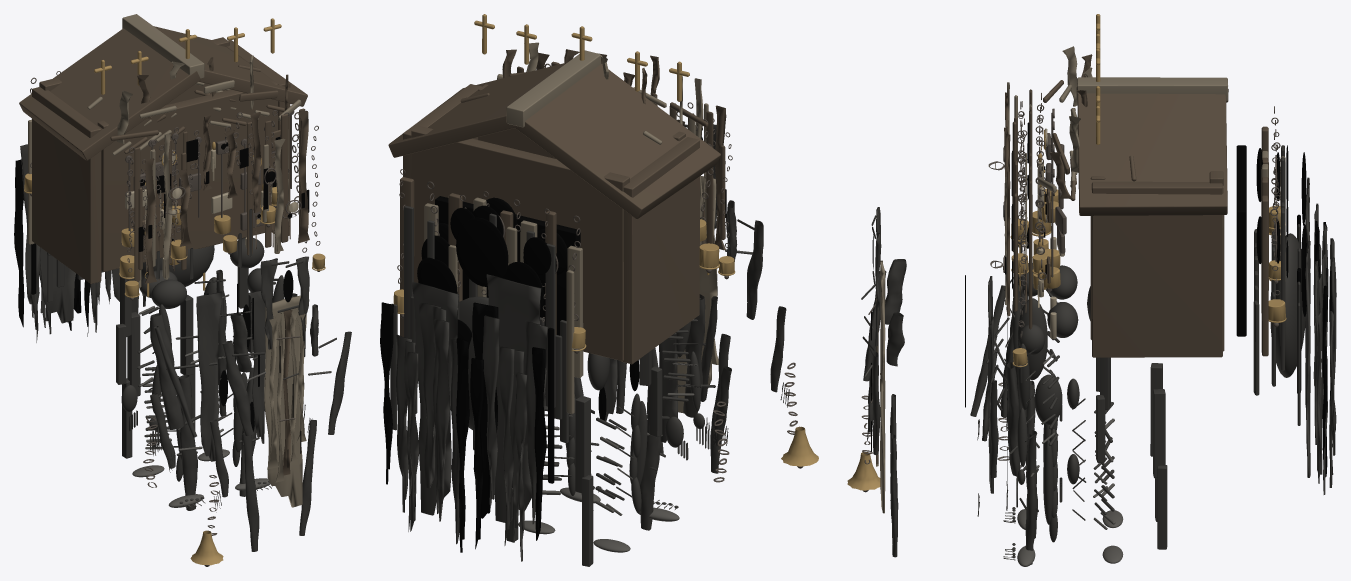
Rendered from penance_carrier_end_goal_v16_hero_anatomy_weight.glb.
3 views of the same model, side by side, from view 1: azimuth 30°, elevation 25°; view 2: azimuth 150°, elevation 25°; view 3: azimuth 270°, elevation 25° (orthographic). The views are drawn at different scales.
Parts seen in each view (by area): view 1: PC_V4_shrine_front_rotten_wall, PC_V4_shrine_left_side_wall, PC_V4_roof_left_steep_slab, PC_V15_rotten_wood_door_mask_broad_read, PC_V4_roof_right_steep_slab, PC_V11_left_torn_front_cloak_sheet, PC_V4_roof_ridge_heavy_rot, PC_V11_right_torn_front_cloak_sheet, PC_V11_5_left_arm_pinched_wrapped_sculpt, PC_V11_back_rotten_skin_sheet_left, PC_V11_5_left_leg_compressed_wrapped_sculpt, PC_V11_6_back_thin_torn_rag_layer_00 (+43 smaller); view 2: PC_V4_shrine_rear_rotten_wall, PC_V4_roof_left_steep_slab, PC_V4_shrine_left_side_wall, PC_V4_roof_right_steep_slab, PC_V11_back_rotten_skin_sheet_left, PC_V11_back_rotten_skin_sheet_right, PC_V11_back_deep_rotted_hole_01, PC_V4_roof_ridge_heavy_rot, PC_V4_back_black_rotten_hollow, PC_V11_6_back_thin_torn_rag_layer_02, PC_V11_7_back_rotten_interior_tongue_02, PC_V11_5_back_layered_rotten_sheet_04 (+50 smaller); view 3: PC_V4_shrine_right_side_wall, PC_V4_roof_right_steep_slab, PC_V4_roof_ridge_heavy_rot, PC_V11_back_swollen_rotten_under_mass, PC_V4_back_black_rotten_hollow, PC_V15_rotten_wood_door_mask_broad_read, PC_V5_back_rotten_vertical_plank_07, PC_V11_5_right_leg_compressed_wrapped_sculpt, PC_V11_back_rotten_skin_sheet_right, PC_V11_5_right_arm_pinched_wrapped_sculpt, PC_V6_right_wrapped_thigh, PC_V11_sunken_chest_under_mask (+19 smaller).
Boxes of the visible parts, x1=… form: PC_V4_shrine_front_rotten_wall: x1=97, y1=79, x2=278, y2=271; PC_V4_shrine_left_side_wall: x1=32, y1=87, x2=101, y2=283; PC_V4_roof_left_steep_slab: x1=19, y1=28, x2=200, y2=160; PC_V15_rotten_wood_door_mask_broad_read: x1=264, y1=295, x2=306, y2=507; PC_V4_roof_right_steep_slab: x1=153, y1=26, x2=307, y2=106; PC_V11_left_torn_front_cloak_sheet: x1=196, y1=291, x2=222, y2=461; PC_V4_roof_ridge_heavy_rot: x1=122, y1=14, x2=204, y2=78; PC_V11_right_torn_front_cloak_sheet: x1=250, y1=290, x2=265, y2=443; PC_V11_5_left_arm_pinched_wrapped_sculpt: x1=150, y1=313, x2=184, y2=429; PC_V11_back_rotten_skin_sheet_left: x1=39, y1=247, x2=75, y2=323; PC_V11_5_left_leg_compressed_wrapped_sculpt: x1=178, y1=374, x2=197, y2=510; PC_V11_6_back_thin_torn_rag_layer_00: x1=14, y1=159, x2=24, y2=327; PC_V4_shrine_rear_rotten_wall: x1=411, y1=125, x2=629, y2=361; PC_V4_roof_left_steep_slab: x1=515, y1=64, x2=720, y2=219; PC_V4_shrine_left_side_wall: x1=621, y1=137, x2=699, y2=364; PC_V4_roof_right_steep_slab: x1=388, y1=63, x2=564, y2=157; PC_V11_back_rotten_skin_sheet_left: x1=486, y1=274, x2=541, y2=522; PC_V11_back_rotten_skin_sheet_right: x1=411, y1=282, x2=458, y2=515; PC_V11_back_deep_rotted_hole_01: x1=456, y1=217, x2=508, y2=286; PC_V4_roof_ridge_heavy_rot: x1=506, y1=50, x2=600, y2=127; PC_V4_back_black_rotten_hollow: x1=435, y1=196, x2=580, y2=335; PC_V11_6_back_thin_torn_rag_layer_02: x1=482, y1=315, x2=499, y2=504; PC_V11_7_back_rotten_interior_tongue_02: x1=434, y1=319, x2=450, y2=521; PC_V11_5_back_layered_rotten_sheet_04: x1=419, y1=302, x2=441, y2=488; PC_V4_shrine_right_side_wall: x1=1091, y1=181, x2=1223, y2=357; PC_V4_roof_right_steep_slab: x1=1077, y1=93, x2=1227, y2=215; PC_V4_roof_ridge_heavy_rot: x1=1077, y1=77, x2=1227, y2=101; PC_V11_back_swollen_rotten_under_mass: x1=1270, y1=233, x2=1305, y2=377; PC_V4_back_black_rotten_hollow: x1=1236, y1=145, x2=1246, y2=336; PC_V15_rotten_wood_door_mask_broad_read: x1=880, y1=260, x2=885, y2=513; PC_V5_back_rotten_vertical_plank_07: x1=1261, y1=195, x2=1268, y2=356; PC_V11_5_right_leg_compressed_wrapped_sculpt: x1=1025, y1=430, x2=1036, y2=564; PC_V11_back_rotten_skin_sheet_right: x1=1305, y1=241, x2=1310, y2=477; PC_V11_5_right_arm_pinched_wrapped_sculpt: x1=1006, y1=362, x2=1019, y2=476; PC_V6_right_wrapped_thigh: x1=1153, y1=389, x2=1165, y2=478; PC_V11_sunken_chest_under_mask: x1=1018, y1=298, x2=1047, y2=379.
Size of the model in its own units: 2.34 by 4.48 by 3.95.
